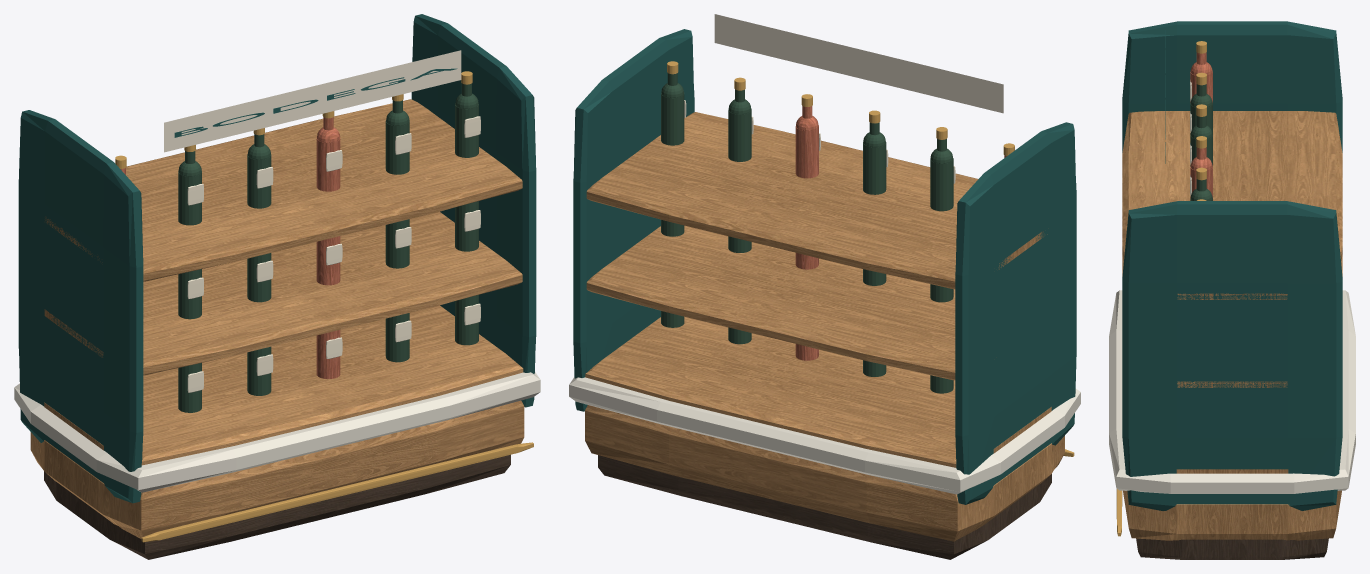
Rendered from hiperreal.glb.
The picture shows the model from 3 angles, left to right: view 1: azimuth 30°, elevation 25°; view 2: azimuth 150°, elevation 25°; view 3: azimuth 270°, elevation 25°; orthographic projection. The views are drawn at different scales.
Parts seen in each view (by area): view 1: Native component 6, Native component 3, Native component 1, Native component 64, Native component 5, Native component 0, Native component 46, Native component 2, Native component 10, Sign BODEGA; view 2: Native component 6, Native component 3, Native component 1, Native component 64, Native component 0, Native component 5, Native component 10, Native component 2; view 3: Native component 3, Native component 6, Native component 1, Native component 0, Native component 64, Native component 10, Native component 2.
Boxes of the visible parts, bbox=[...] form: Native component 6: bbox=[30, 99, 524, 538]; Native component 3: bbox=[18, 14, 536, 503]; Native component 1: bbox=[14, 372, 540, 492]; Native component 64: bbox=[178, 83, 478, 412]; Native component 5: bbox=[164, 50, 461, 152]; Native component 0: bbox=[44, 454, 510, 559]; Native component 46: bbox=[187, 116, 480, 392]; Native component 2: bbox=[115, 71, 533, 542]; Native component 10: bbox=[120, 117, 340, 378]; Sign BODEGA: bbox=[174, 68, 457, 137]; Native component 6: bbox=[585, 112, 1064, 541]; Native component 3: bbox=[573, 29, 1076, 504]; Native component 1: bbox=[569, 377, 1080, 494]; Native component 64: bbox=[661, 73, 953, 393]; Native component 0: bbox=[598, 455, 1051, 559]; Native component 5: bbox=[714, 14, 1003, 113]; Native component 10: bbox=[795, 106, 1006, 360]; Native component 2: bbox=[667, 61, 1074, 456]; Native component 3: bbox=[1122, 21, 1342, 510]; Native component 6: bbox=[1122, 111, 1342, 540]; Native component 1: bbox=[1109, 290, 1355, 493]; Native component 0: bbox=[1136, 538, 1328, 559]; Native component 64: bbox=[1190, 84, 1212, 200]; Native component 10: bbox=[1190, 52, 1212, 197]; Native component 2: bbox=[1116, 41, 1206, 536].
Bounding box in the file's own units: 2.1 × 1.98 × 1.12.
Materials: 10 (3 with a texture image).
